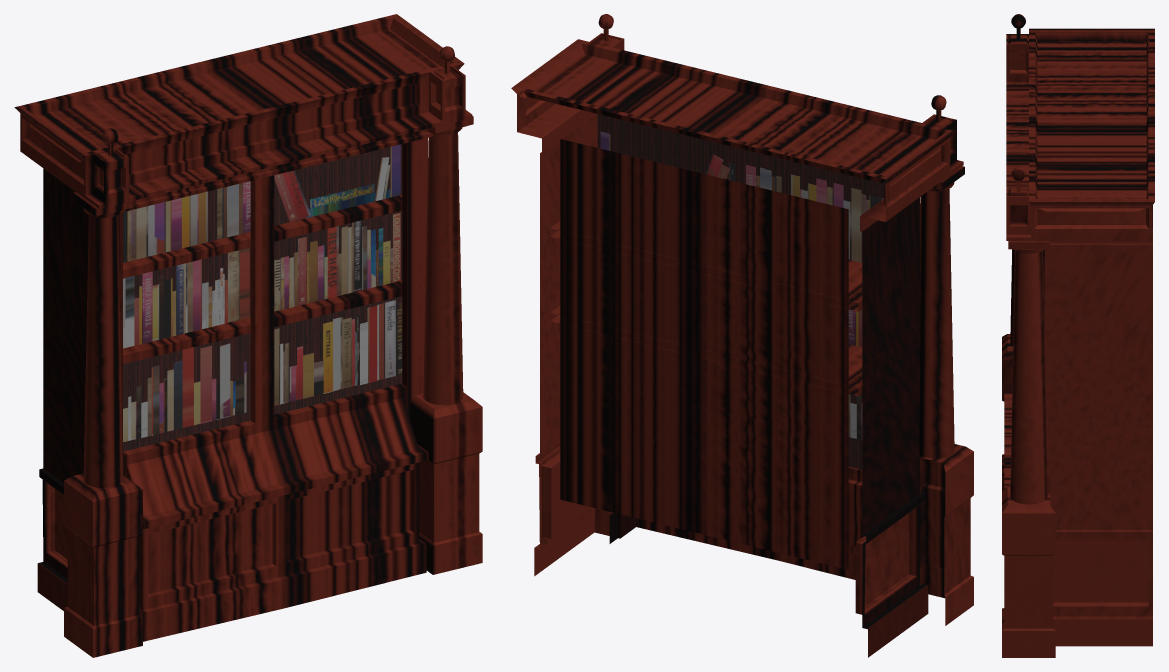
Rendered from Shelf_Books_2.glb.
3 views of the same model, side by side, from view 1: azimuth 30°, elevation 25°; view 2: azimuth 150°, elevation 25°; view 3: azimuth 270°, elevation 25° (orthographic). The views are drawn at different scales.
Parts seen in each view (by area): view 1: Shelf_Baked.009, Plane.003; view 2: Shelf_Baked.009, Plane.003; view 3: Shelf_Baked.009.
Part boxes in pixels (x1,y1,x2,y2): Shelf_Baked.009: [14, 14, 482, 657]; Plane.003: [123, 144, 402, 451]; Shelf_Baked.009: [511, 14, 973, 657]; Plane.003: [597, 114, 888, 469]; Shelf_Baked.009: [1002, 14, 1154, 657].
Bounding box in the file's own units: 1.67 × 2.11 × 0.6097.
Materials: 2 (2 with a texture image).
